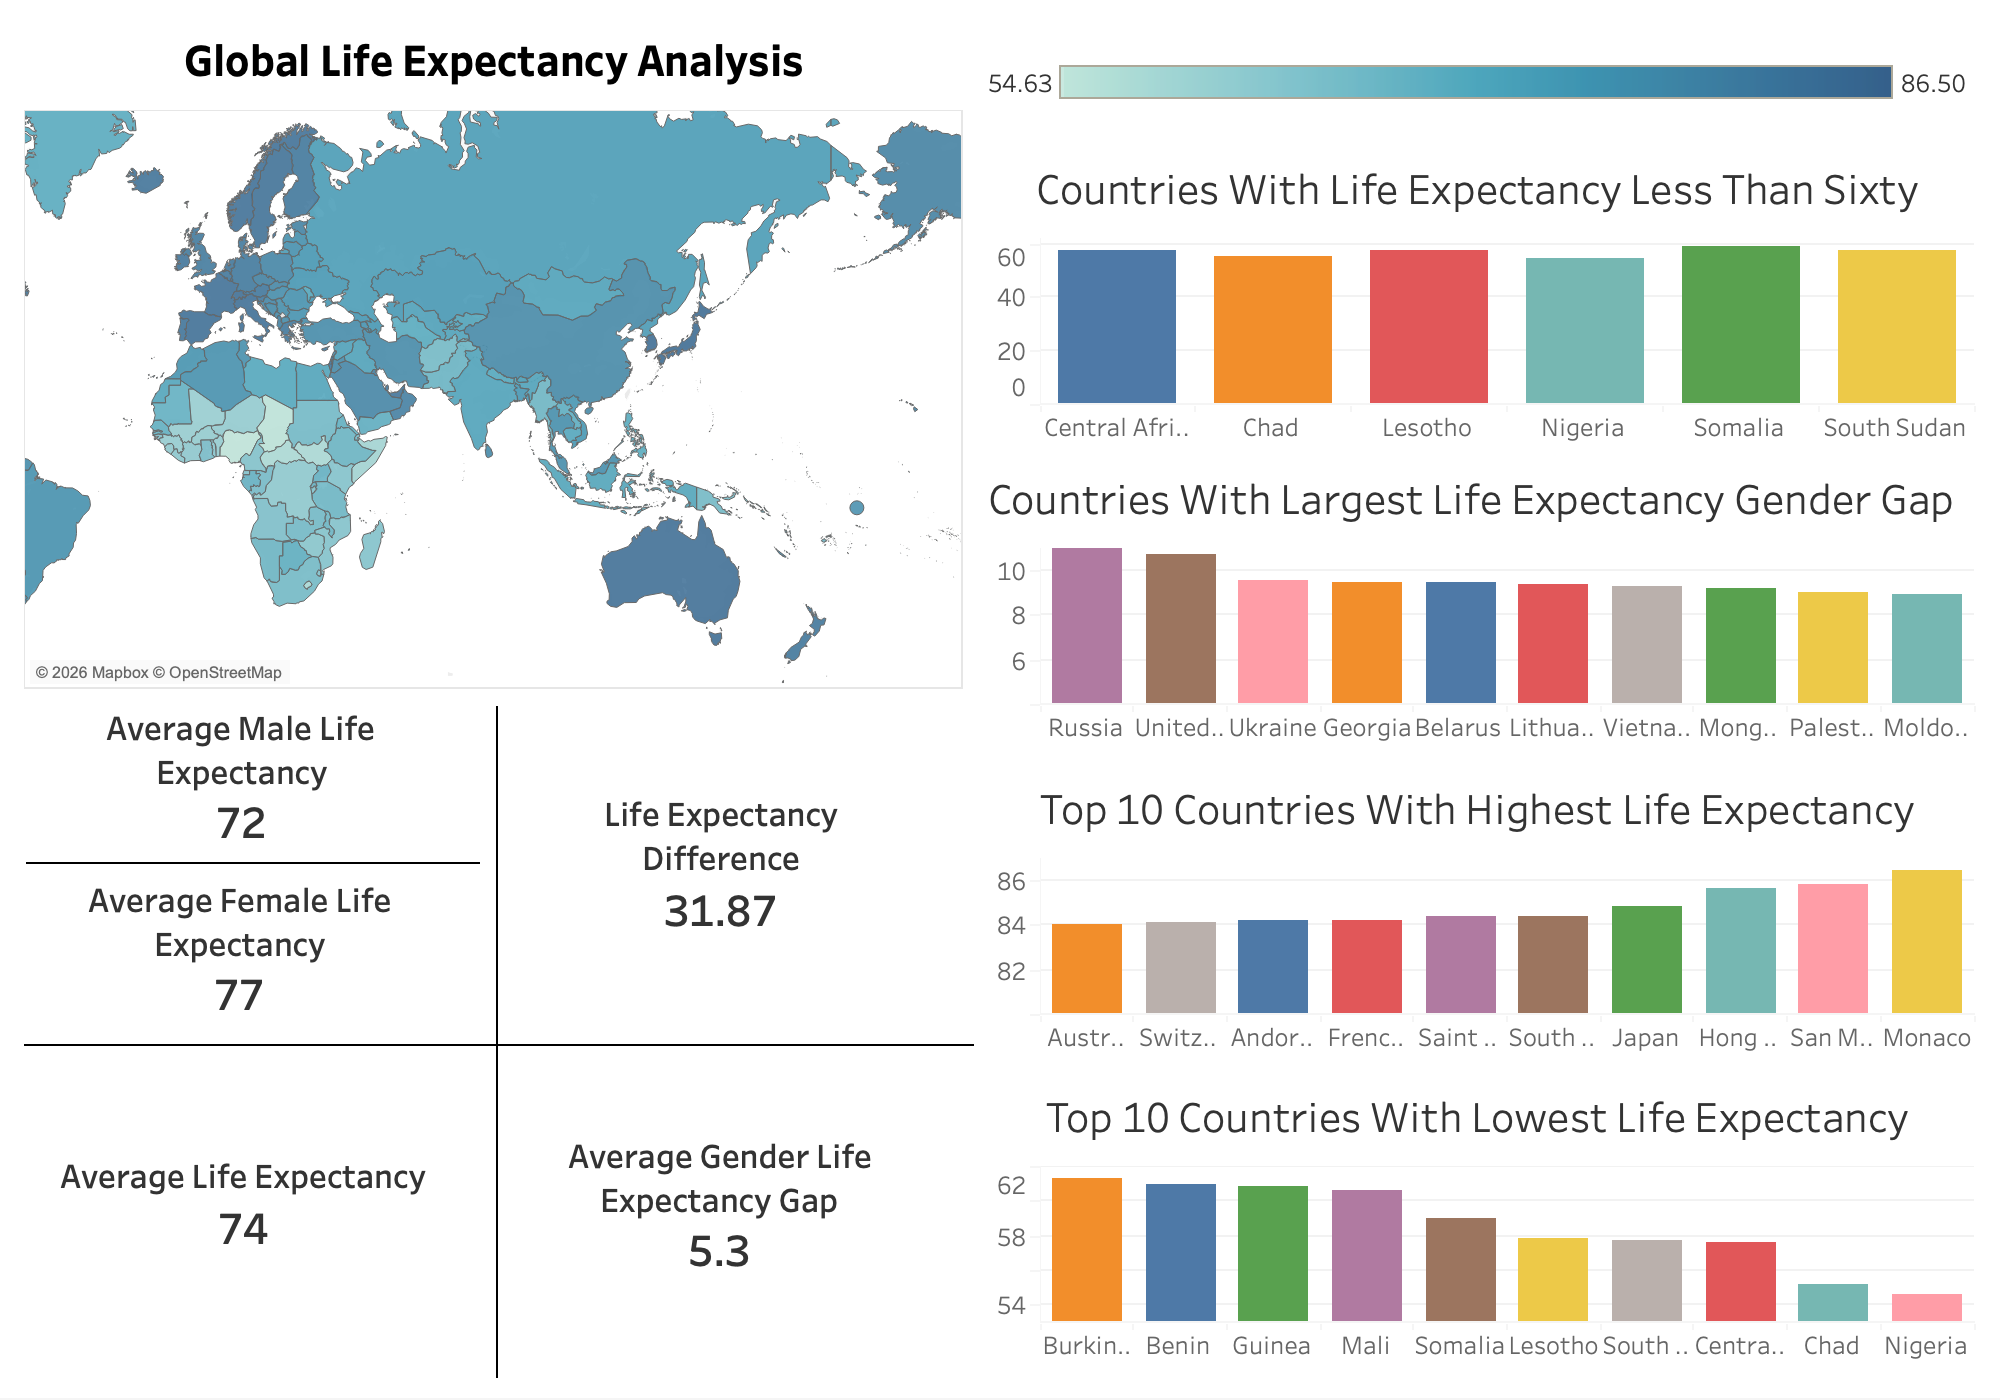

The page's visual inventory and layout, read from the dashboard file:
{"tool":"tableau","page":{"name":"Dashboard 1","canvas":[1000,700],"ordinal":0},"visuals":[{"type":"worksheet","title":"Sheet 10","mark":"Automatic","box":[8,8,478,342]},{"type":"legend","title":"Sheet 10","param":"[federated.1ta4dd005l19el18gi3dh0fydwvz].[sum:Life Expectancy UN 2024:qk]","box":[486,8,506,65]},{"type":"worksheet","title":"Sheet 1","mark":"Automatic","rows":["Life Expectancy UN 2024"],"cols":["Country"],"box":[486,73,506,154.7]},{"type":"worksheet","title":"Sheet 4","mark":"Automatic","rows":["GenderGap"],"cols":["Country"],"box":[486,227.8,506,154.7]},{"type":"worksheet","title":"Sheet 5 (4)","mark":"Text","box":[8,350,239,85.5]},{"type":"worksheet","title":"Sheet 5","mark":"Text","box":[247,350,239,171]},{"type":"blank","box":[248,354,1,336]},{"type":"worksheet","title":"Sheet 3","mark":"Automatic","rows":["Life Expectancy UN 2024"],"cols":["Country"],"box":[486,382.5,506,154.7]},{"type":"blank","box":[13,432,227,1]},{"type":"worksheet","title":"Sheet 5 (5)","mark":"Text","box":[8,435.5,239,85.5]},{"type":"worksheet","title":"Sheet 5 (3)","mark":"Text","box":[8,521,239,171]},{"type":"worksheet","title":"Sheet 5 (2)","mark":"Text","box":[247,521,239,171]},{"type":"blank","box":[12,523,475,1]},{"type":"worksheet","title":"Sheet 2","mark":"Automatic","rows":["Life Expectancy UN 2024"],"cols":["Country"],"box":[486,537.2,506,154.7]}]}

Visuals, with their boxes in screenshot pixels (x1, y1, x2, y2), scaled from the page's 1000x700 canvas onto the 2000x1400 screenshot:
"Sheet 10" worksheet: <bbox>16, 16, 972, 700</bbox>
"Sheet 10" legend: <bbox>972, 16, 1984, 146</bbox>
"Sheet 1" worksheet: <bbox>972, 146, 1984, 455</bbox>
"Sheet 4" worksheet: <bbox>972, 456, 1984, 765</bbox>
"Sheet 5 (4)" worksheet (Text marks): <bbox>16, 700, 494, 871</bbox>
"Sheet 5" worksheet (Text marks): <bbox>494, 700, 972, 1042</bbox>
blank: <bbox>496, 708, 498, 1380</bbox>
"Sheet 3" worksheet: <bbox>972, 765, 1984, 1074</bbox>
blank: <bbox>26, 864, 480, 866</bbox>
"Sheet 5 (5)" worksheet (Text marks): <bbox>16, 871, 494, 1042</bbox>
"Sheet 5 (3)" worksheet (Text marks): <bbox>16, 1042, 494, 1384</bbox>
"Sheet 5 (2)" worksheet (Text marks): <bbox>494, 1042, 972, 1384</bbox>
blank: <bbox>24, 1046, 974, 1048</bbox>
"Sheet 2" worksheet: <bbox>972, 1074, 1984, 1384</bbox>
